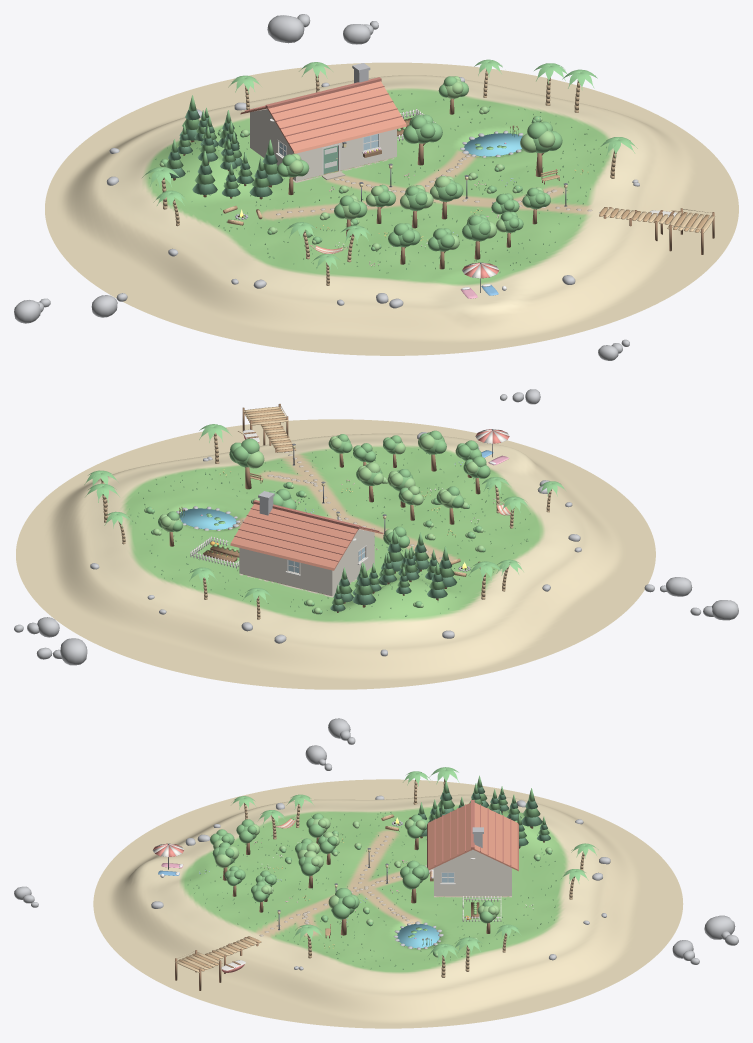
File: island.glb
The picture shows the model from 3 angles, top to bottom: view 1: azimuth 30°, elevation 25°; view 2: azimuth 150°, elevation 25°; view 3: azimuth 270°, elevation 25°; orthographic projection. The views are drawn at different scales.
Parts seen in each view (by area): view 1: Ground, Trees, House_Roof, Pines, Rocks, Palms, House_Wall_S, Dock, House_Wall_W, Big_Tree, Pond_Water, Bushes (+1 smaller); view 2: Ground, Trees, House_Roof, Pines, Rocks, Palms, House_Wall_N, Dock, House_Wall_W, Bushes, Big_Tree, Pond_Water (+2 smaller); view 3: Ground, Trees, House_Roof, Rocks, House_Wall_E, Palms, Pines, Dock, Big_Tree, Pond_Water, Bushes, Grass_Tufts.
Part boxes in pixels (x1,y1,x2,y2): Ground: [45, 62, 738, 355]; Trees: [276, 76, 550, 269]; House_Roof: [240, 63, 406, 153]; Pines: [165, 95, 283, 199]; Rocks: [14, 14, 639, 360]; Palms: [142, 59, 637, 285]; House_Wall_S: [294, 129, 396, 181]; Dock: [599, 207, 714, 254]; House_Wall_W: [250, 109, 294, 179]; Big_Tree: [520, 121, 562, 176]; Pond_Water: [464, 133, 522, 156]; Bushes: [159, 106, 542, 251]; Ground: [16, 419, 655, 689]; Trees: [158, 430, 490, 548]; House_Roof: [230, 491, 383, 570]; Pines: [330, 529, 456, 612]; Rocks: [14, 389, 738, 665]; Palms: [84, 424, 565, 619]; House_Wall_N: [239, 548, 333, 595]; Dock: [242, 404, 295, 452]; House_Wall_W: [333, 529, 374, 594]; Bushes: [144, 477, 485, 614]; Big_Tree: [229, 438, 264, 489]; Pond_Water: [178, 508, 236, 529]; Ground: [93, 779, 683, 1028]; Trees: [210, 813, 499, 933]; House_Roof: [427, 800, 518, 871]; Rocks: [14, 718, 738, 970]; House_Wall_E: [436, 849, 509, 895]; Palms: [232, 767, 598, 977]; Pines: [418, 775, 550, 847]; Dock: [175, 936, 261, 990]; Big_Tree: [328, 888, 359, 935]; Pond_Water: [397, 924, 439, 948]; Bushes: [271, 810, 552, 957]; Grass_Tufts: [187, 812, 556, 969].
Bounding box in the file's own units: 45.86 × 6.1 × 47.94.
